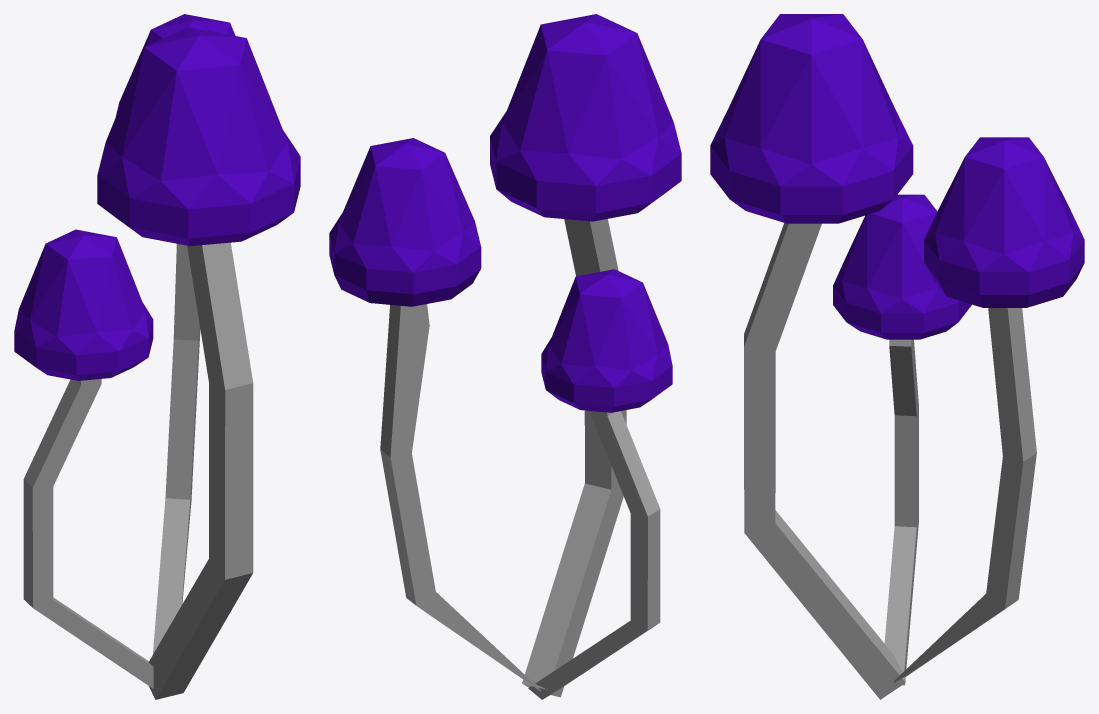
File: Shroom2.fbx
3 views of the same model, side by side, from view 1: azimuth 30°, elevation 25°; view 2: azimuth 150°, elevation 25°; view 3: azimuth 270°, elevation 25° (orthographic). The views are drawn at different scales.
Visible parts, largest first — view 1: Icosphere.002, Plane, Icosphere.001, Plane.001, Plane.002, Icosphere; view 2: Icosphere.002, Icosphere, Icosphere.001, Plane, Plane.002, Plane.001; view 3: Icosphere.002, Icosphere, Plane, Icosphere.001, Plane.002, Plane.001.
Part boxes in pixels (x1,y1,x2,y2): Icosphere.002: [97, 27, 300, 246]; Plane: [148, 242, 253, 699]; Icosphere.001: [14, 229, 153, 380]; Plane.001: [23, 379, 153, 688]; Plane.002: [153, 243, 200, 653]; Icosphere: [116, 14, 235, 115]; Icosphere.002: [490, 14, 681, 221]; Icosphere: [329, 138, 481, 306]; Icosphere.001: [541, 269, 672, 412]; Plane: [522, 219, 626, 697]; Plane.002: [380, 304, 540, 691]; Plane.001: [528, 411, 660, 699]; Icosphere.002: [710, 14, 913, 223]; Icosphere: [924, 137, 1084, 307]; Plane: [744, 223, 905, 699]; Icosphere.001: [833, 194, 971, 339]; Plane.002: [894, 308, 1036, 682]; Plane.001: [884, 339, 918, 685].
Bounding box in the file's own units: 205 × 468 × 236.
